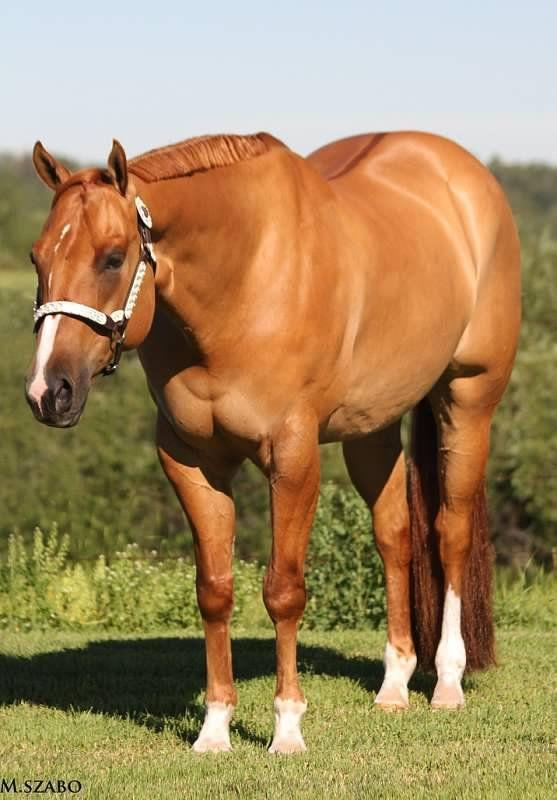horse: (16, 120, 527, 762)
